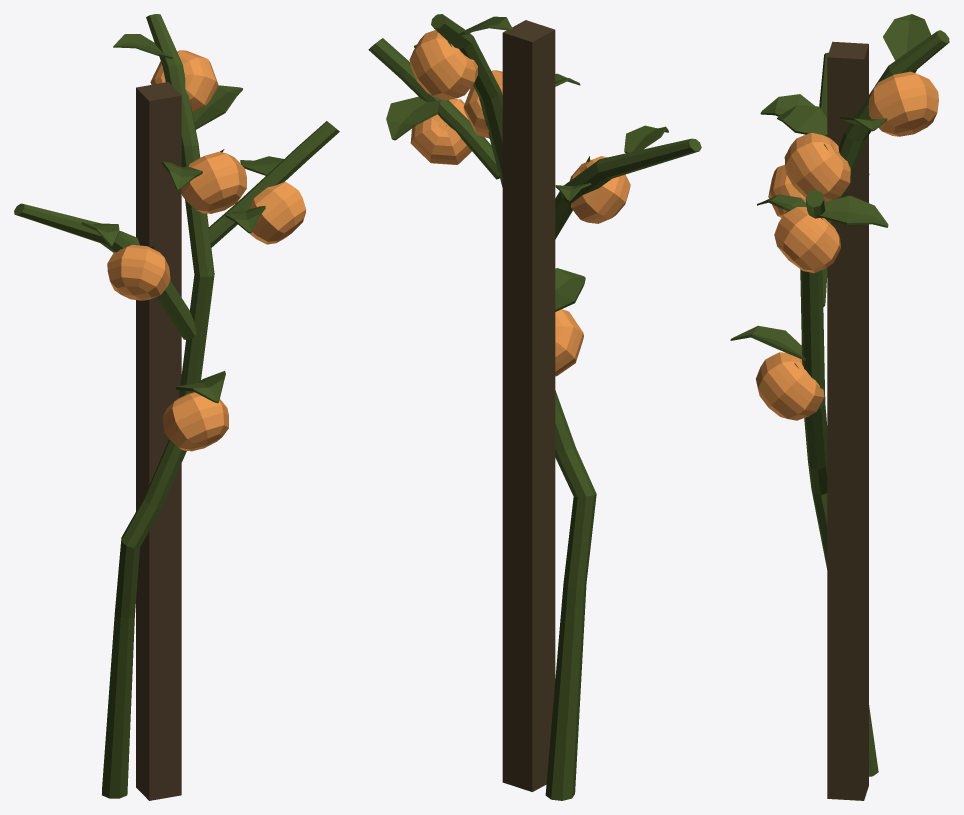
Rendered from PlantLemon_1.fbx.
3 renders of one model, left to right at view 1: azimuth 30°, elevation 25°; view 2: azimuth 150°, elevation 25°; view 3: azimuth 270°, elevation 25°, orthographic. The views are drawn at different scales.
Parts seen in each view (by area): view 1: PlantLemon_1; view 2: PlantLemon_1; view 3: PlantLemon_1.
Boxes of the visible parts, x1,y1,x2,y2 form: PlantLemon_1: (14, 14, 339, 800); PlantLemon_1: (368, 14, 701, 800); PlantLemon_1: (730, 14, 949, 800).
Bounding box in the file's own units: 58.62 × 131 × 33.26.
